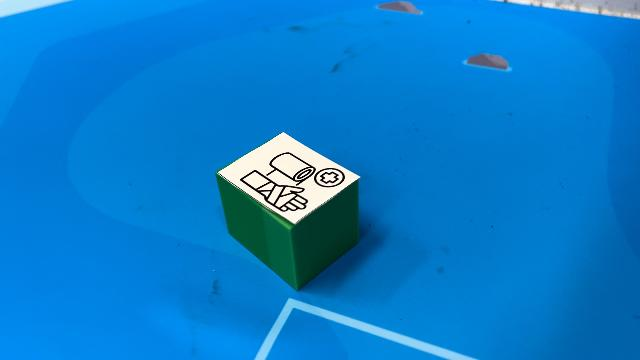bandage: (215, 131, 361, 291)
